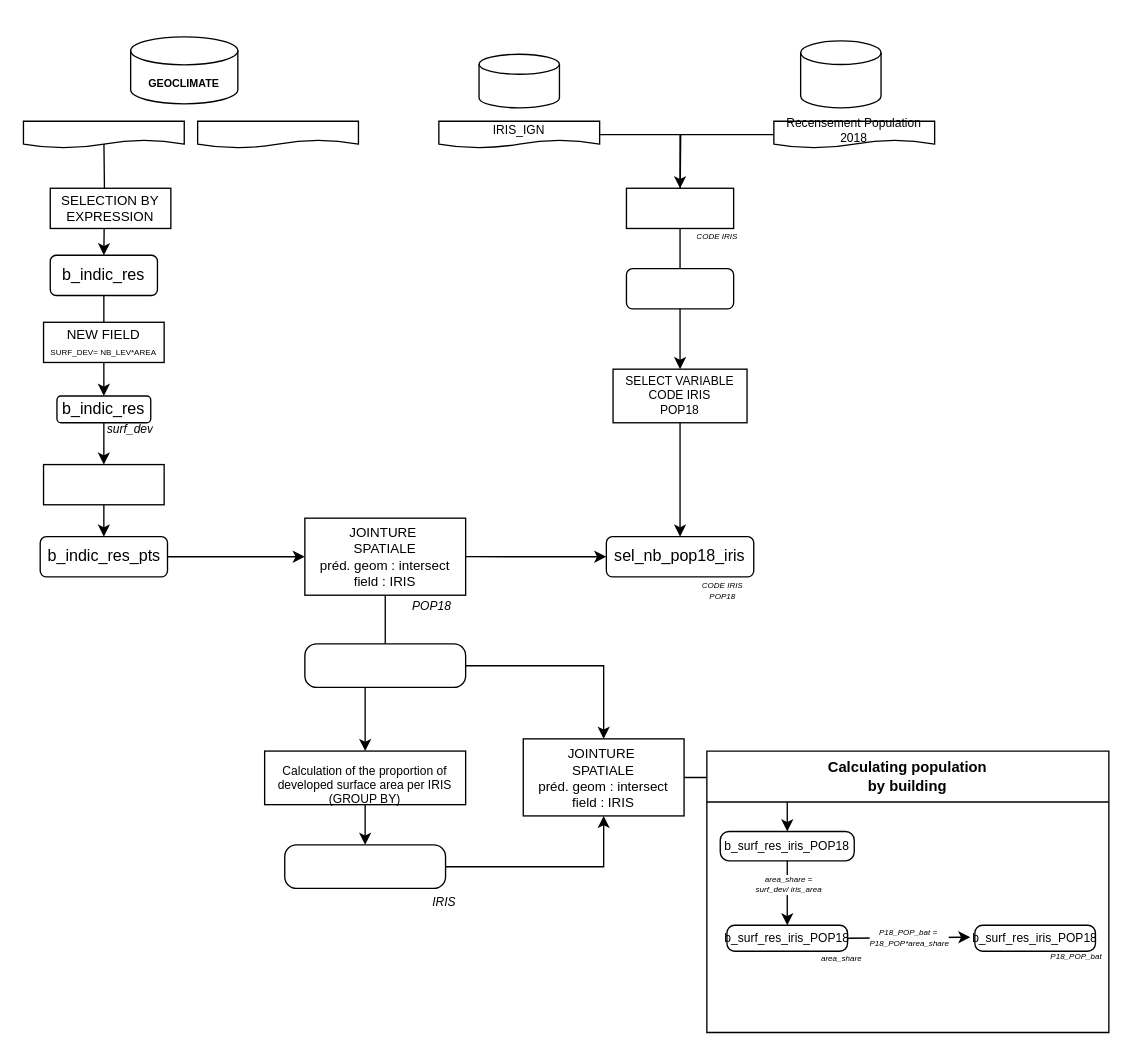
This 1132x1056 diagram has some shape labels left out. The shapes that lost their labels are listed below. From the top down, each one's centre as x and y in pixels, then its label:
At (518,80): "IGN".
At (840,74): "INSEE".
At (103,134): "building_indicators".
At (277,134): "USR_indicators".
At (679,207): "JOINTURE ATTRIBUTAIRE".
At (679,288): "nb_pop18_iris".
At (103,484): "CENTROÏDES".
At (385,665): "b_indic_res_POP18".
At (364,866): "sum_surf_dev_per_iris".
